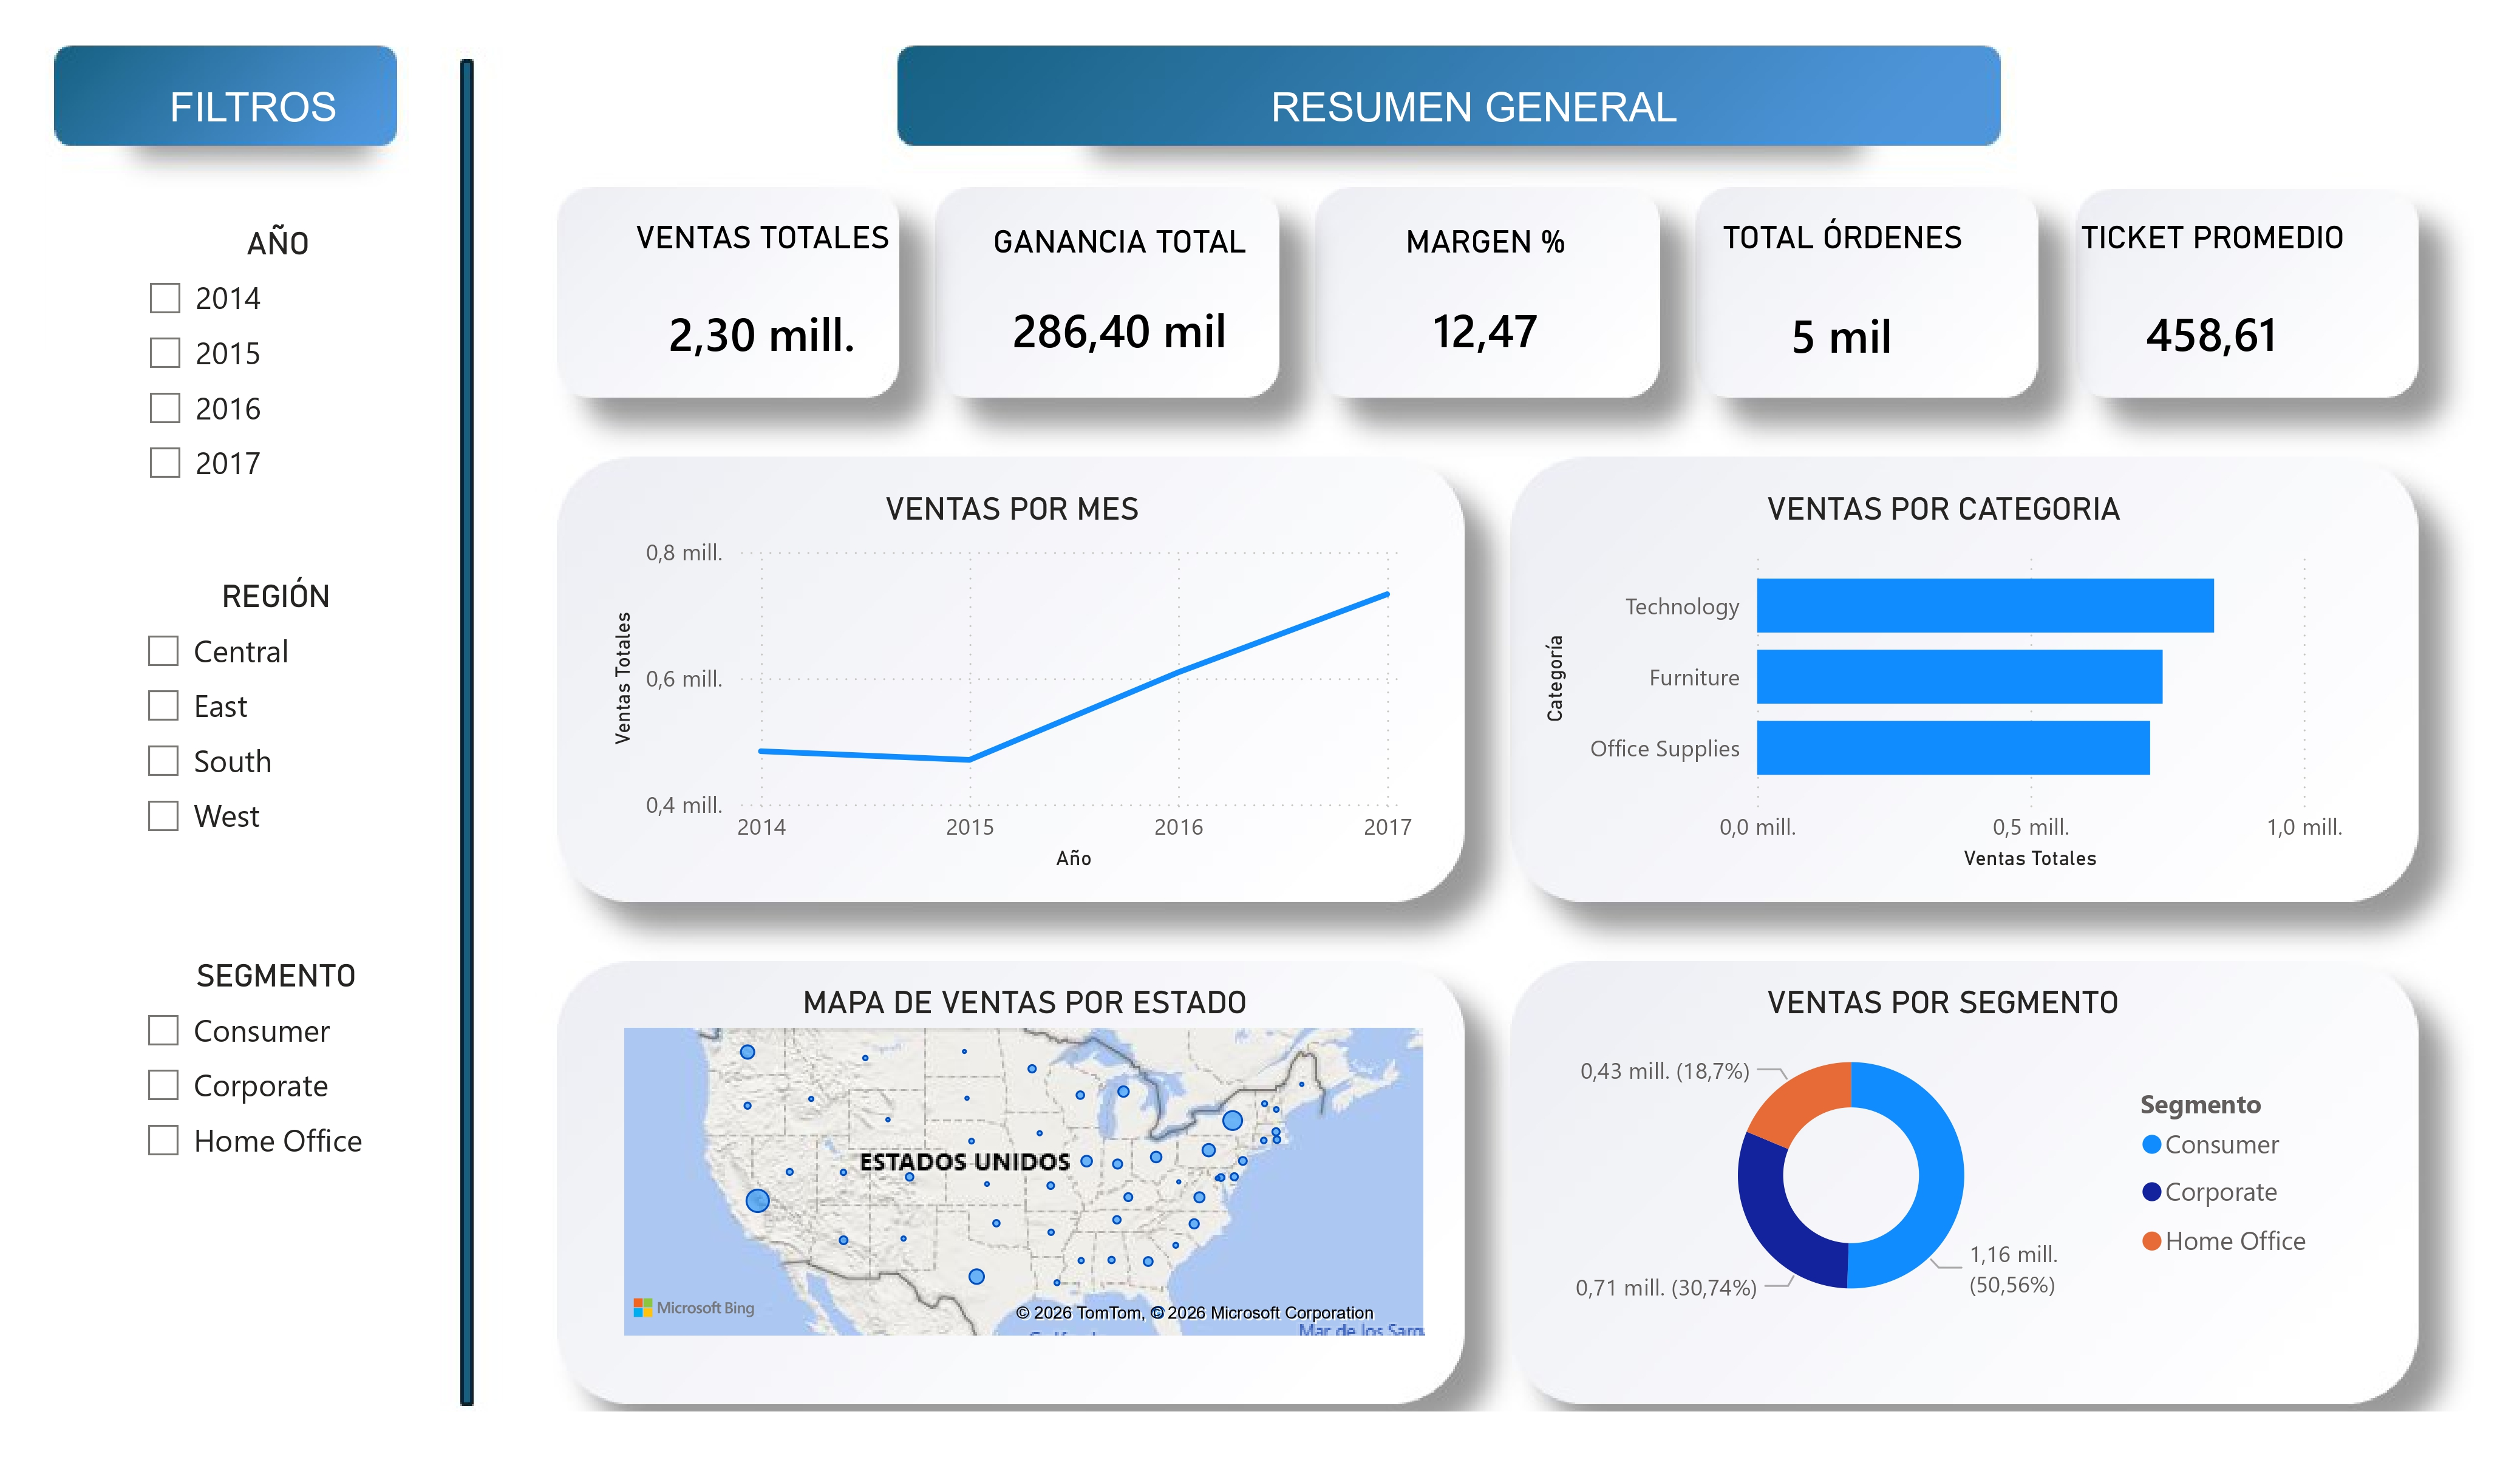

The page's visual inventory and layout, read from the dashboard file:
{"tool":"powerbi","page":{"name":"RESUMEN GENERAL","canvas":[1280,720],"ordinal":0},"visuals":[{"type":"cardVisual","title":"VENTAS TOTALES","fields":{"Data":["Medidas.Total Sales"]},"box":[286,90.5,184,98.2],"z":0},{"type":"lineChart","title":"VENTAS POR MES","fields":{"Category":["superstore.Order Date.Variación.Date Hierarchy.Year","superstore.Order Date.Variación.Date Hierarchy.Quarter","superstore.Order Date.Variación.Date Hierarchy.Month","superstore.Order Date.Variación.Date Hierarchy.Day"],"Y":["Medidas.Total Sales"]},"box":[293.8,234,431.5,205.1],"z":1000},{"type":"clusteredBarChart","title":"VENTAS POR CATEGORIA","fields":{"Category":["superstore.Category"],"Y":["Medidas.Total Sales"]},"box":[785,234,431.5,205.1],"z":2000},{"type":"map","title":"MAPA DE VENTAS POR ESTADO","fields":{"Category":["superstore.State"],"Size":["Medidas.Total Sales"]},"box":[300.5,494.1,431.5,190.7],"z":3000},{"type":"donutChart","title":"VENTAS POR SEGMENTO","fields":{"Category":["superstore.Segment"],"Y":["Medidas.Total Sales"]},"box":[793.6,494.1,412.2,184],"z":4000},{"type":"cardVisual","title":"GANANCIA TOTAL","fields":{"Data":["Medidas.Total Profit"]},"box":[470,93.4,192.6,91.5],"z":5000},{"type":"cardVisual","title":"TOTAL ÓRDENES","fields":{"Data":["Medidas.Total Orders"]},"box":[876.4,90.5,141.6,101.1],"z":6000},{"type":"cardVisual","title":"TICKET PROMEDIO","fields":{"Data":["Medidas.Avg Ticket"]},"box":[1061.4,90.5,161.8,98.2],"z":7000},{"type":"slicer","title":"REGIÓN","fields":{"Values":["superstore.Region"]},"box":[41.4,280.3,160.8,184],"z":8000},{"type":"slicer","title":"AÑO","fields":{"Values":["superstore.Order Date.Variación.Date Hierarchy.Year"]},"box":[41.8,93.8,160.8,184],"z":9000},{"type":"slicer","title":"SEGMENTO","fields":{"Values":["superstore.Segment"]},"box":[41.4,479.6,160.8,184],"z":10000},{"type":"cardVisual","title":"MARGEN %","fields":{"Data":["Medidas.Profit Margin %"]},"box":[662.6,93.4,192.6,91.5],"z":11000},{"type":"textbox","box":[516.2,16.4,473.9,43.3],"z":12000},{"type":"textbox","box":[41.4,16.4,136.8,50.1],"z":13000}]}

Visuals, with their boxes on the page's 1280x720 design canvas (x1, y1, x2, y2). These are canvas units, not pixel positions in the 2520x1457 screenshot, which may show the page scaled, cropped or inside an application window:
"VENTAS TOTALES" cardVisual: (x1=286, y1=90, x2=470, y2=189)
"VENTAS POR MES" lineChart: (x1=294, y1=234, x2=725, y2=439)
"VENTAS POR CATEGORIA" clusteredBarChart: (x1=785, y1=234, x2=1216, y2=439)
"MAPA DE VENTAS POR ESTADO" map: (x1=300, y1=494, x2=732, y2=685)
"VENTAS POR SEGMENTO" donutChart: (x1=794, y1=494, x2=1206, y2=678)
"GANANCIA TOTAL" cardVisual: (x1=470, y1=93, x2=663, y2=185)
"TOTAL ÓRDENES" cardVisual: (x1=876, y1=90, x2=1018, y2=192)
"TICKET PROMEDIO" cardVisual: (x1=1061, y1=90, x2=1223, y2=189)
"REGIÓN" slicer: (x1=41, y1=280, x2=202, y2=464)
"AÑO" slicer: (x1=42, y1=94, x2=203, y2=278)
"SEGMENTO" slicer: (x1=41, y1=480, x2=202, y2=664)
"MARGEN %" cardVisual: (x1=663, y1=93, x2=855, y2=185)
textbox: (x1=516, y1=16, x2=990, y2=60)
textbox: (x1=41, y1=16, x2=178, y2=66)
